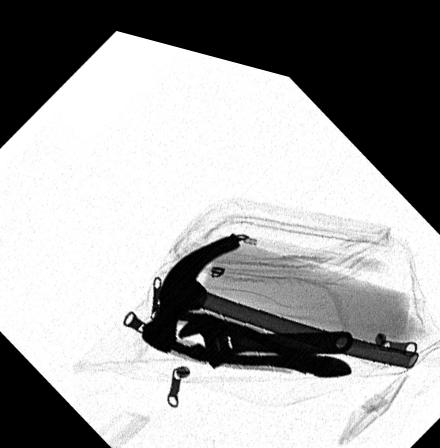Hammer: (136, 214, 422, 349)
Pliers: (146, 292, 358, 359)
Wrench: (172, 305, 355, 353)
